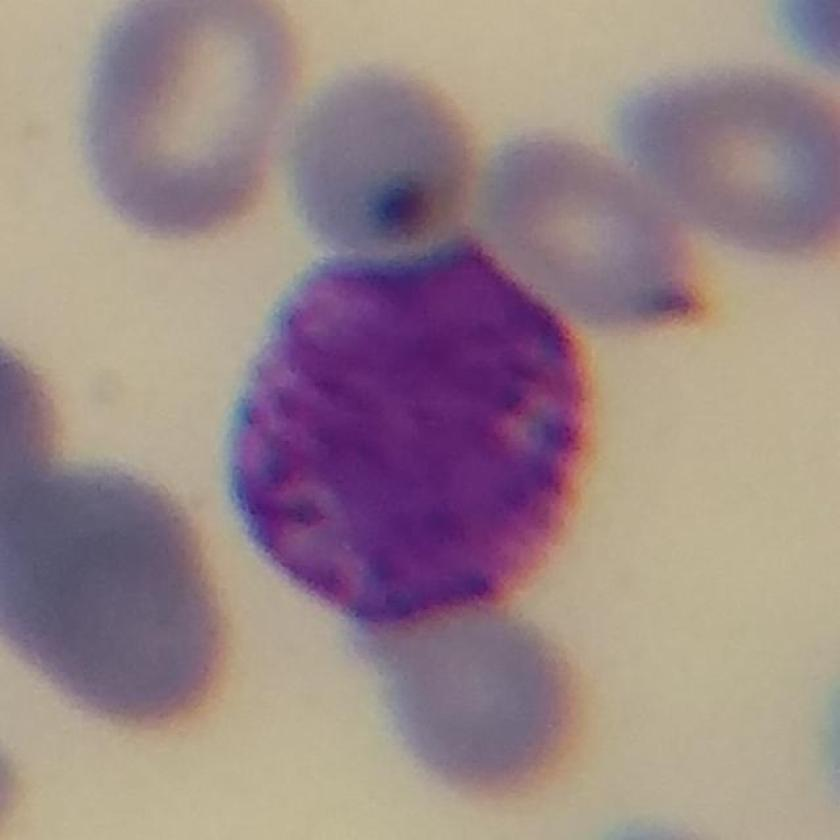basophil: (219, 232, 599, 636)
